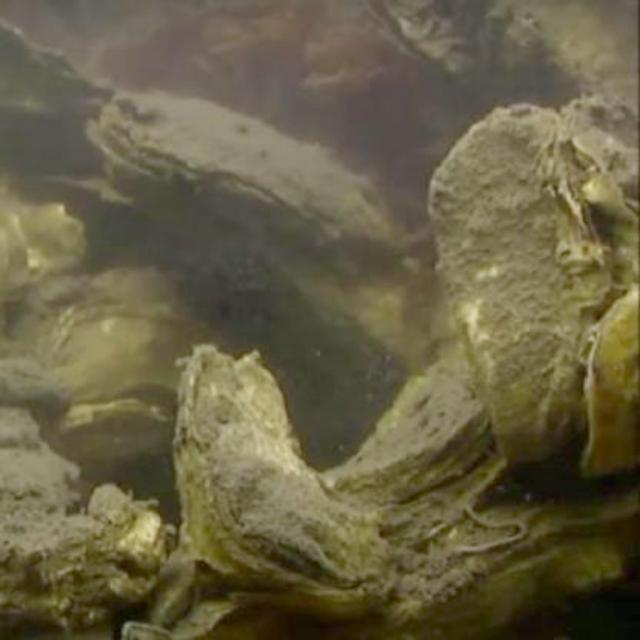Oyster-Closed: (438, 105, 616, 468), (177, 353, 404, 612), (90, 89, 411, 256), (52, 304, 224, 404), (364, 0, 485, 86), (587, 287, 640, 482), (45, 402, 175, 472)
